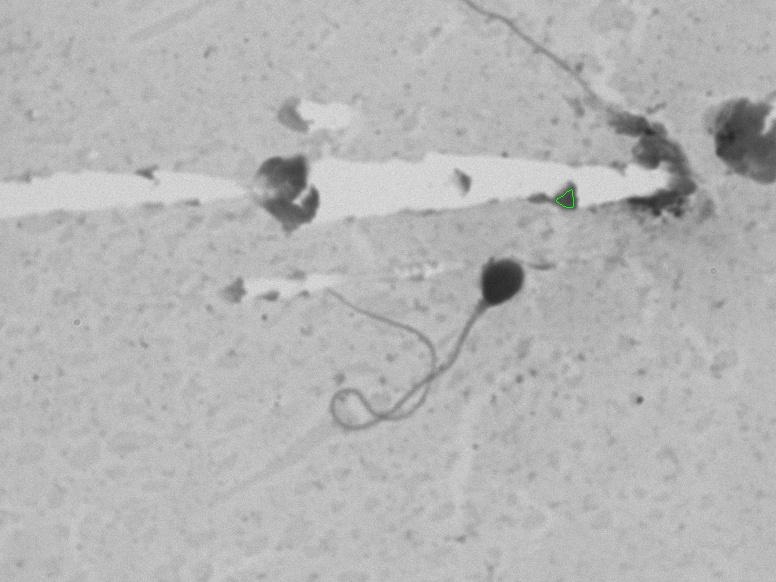Abnormal: (306, 238, 555, 459)
